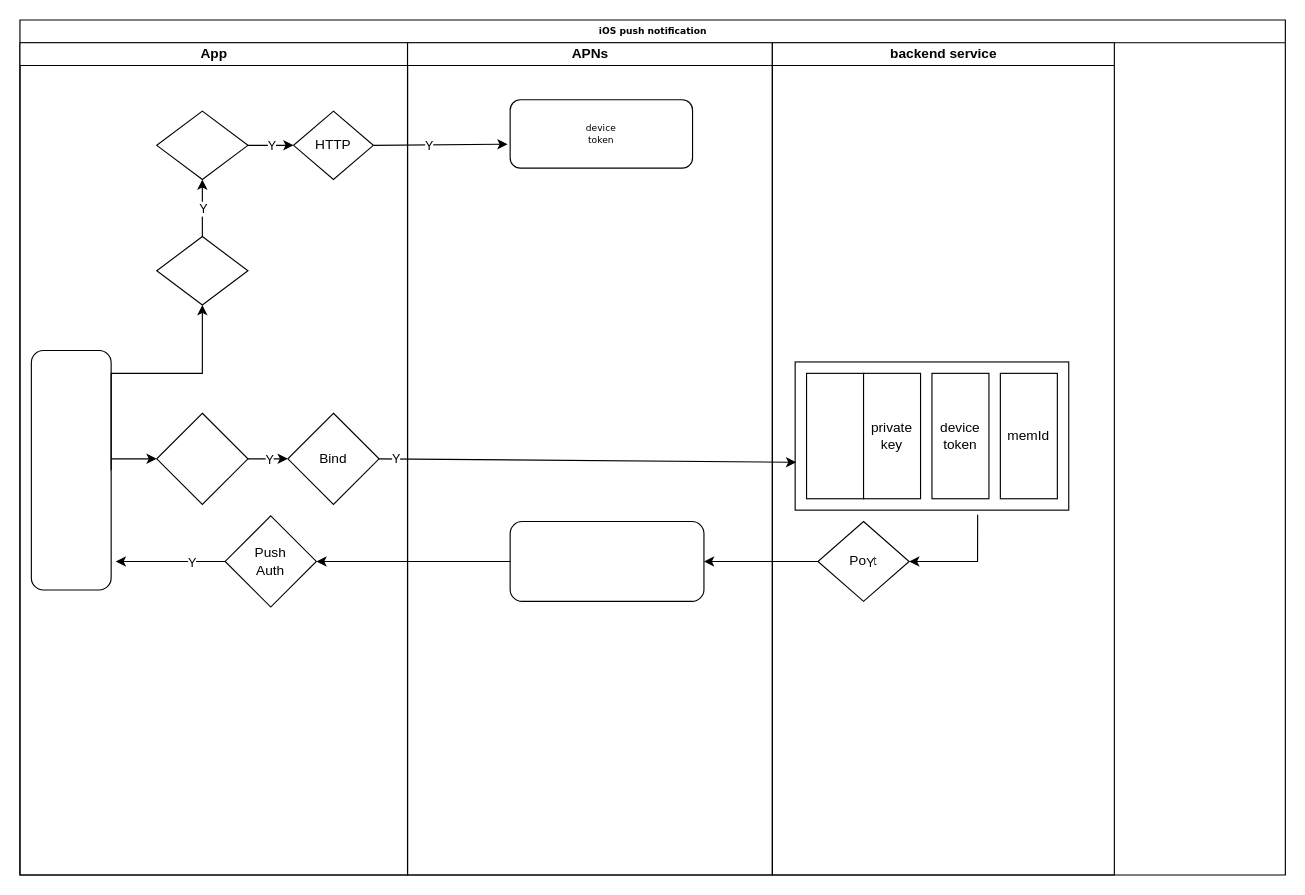
This 1305x895 diagram has some shape labels left out. Here are the shapes that lost their labels. From the top down, the centre of each, then its label:
At (202,145): "capatilibites".
At (202,270): "entitlement".
At (834,435): "cer".
At (70,469): "device".
At (202,458): "Login".
At (606,560): "push service".
